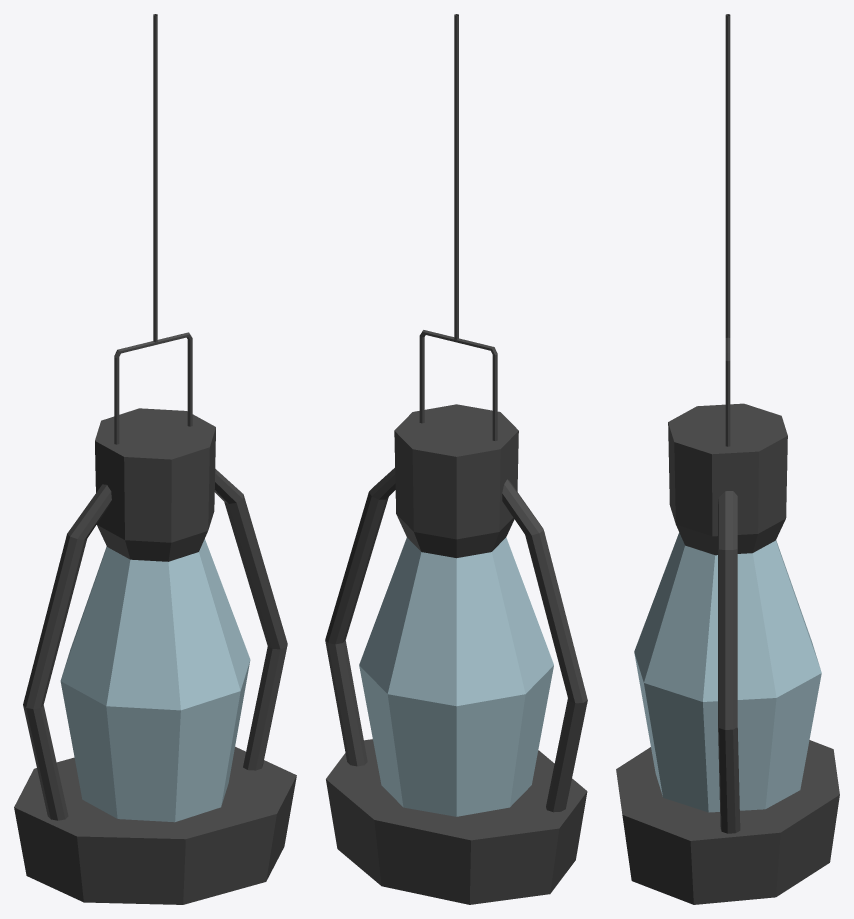
Rendered from Pendant_lamp.fbx.
3 views of the same model, side by side, from view 1: azimuth 30°, elevation 25°; view 2: azimuth 150°, elevation 25°; view 3: azimuth 270°, elevation 25° (orthographic).
Parts seen in each view (by area): view 1: Pendant_lamp; view 2: Pendant_lamp; view 3: Pendant_lamp.
Part boxes in pixels (x1,y1,x2,y2): Pendant_lamp: [14, 14, 296, 904]; Pendant_lamp: [325, 14, 587, 904]; Pendant_lamp: [616, 14, 839, 904].
Bounding box in the file's own units: 20.23 × 15.17 × 62.48.
